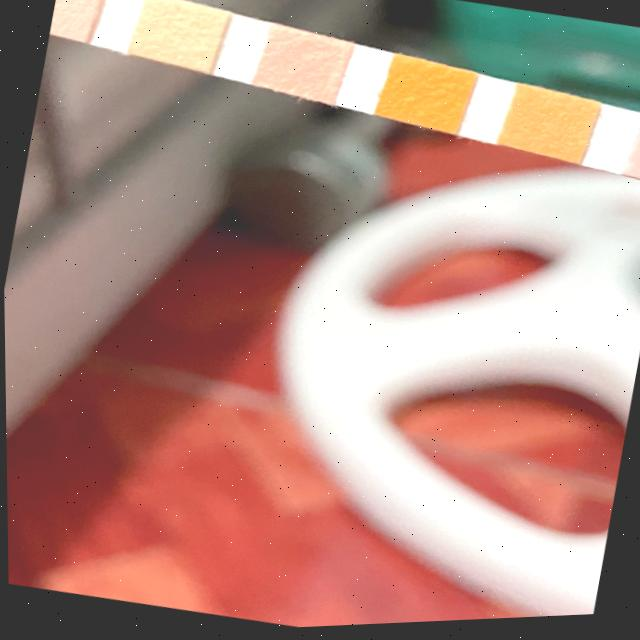Blood: (379, 62, 470, 137)
Ketone: (630, 126, 640, 190)
Protein: (131, 0, 224, 73)
SpGravity: (504, 92, 592, 165)
Urobilinogen: (50, 0, 98, 38)
pH: (262, 31, 346, 105)
